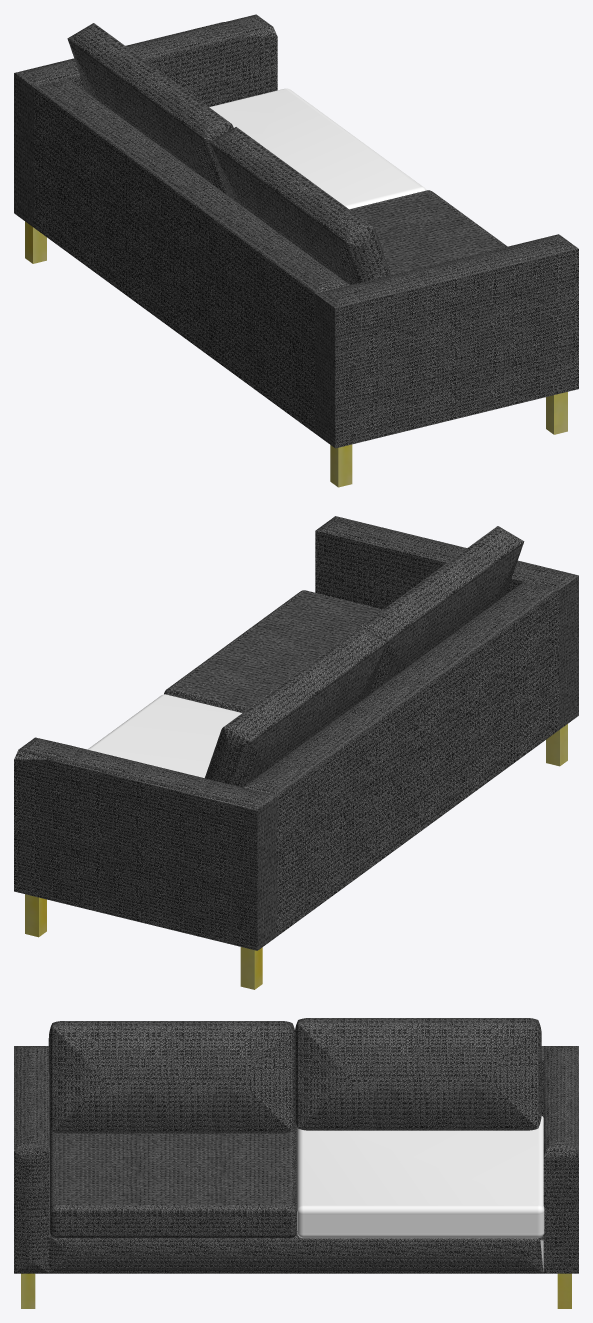
The model's file is karlstad_sofa_3_obj0_object.obj.
The picture shows the model from 3 angles, top to bottom: view 1: azimuth 30°, elevation 25°; view 2: azimuth 150°, elevation 25°; view 3: azimuth 270°, elevation 25°; orthographic projection. The views are drawn at different scales.
Parts seen in each view (by area): view 1: Mesh5 Model, Mesh3 back_cushion1 Model, Mesh2 seat_cushion2 Model, Mesh4 back_cushion2 Model, Mesh1 seat_cushion1 Model; view 2: Mesh5 Model, Mesh4 back_cushion2 Model, Mesh1 seat_cushion1 Model, Mesh3 back_cushion1 Model, Mesh2 seat_cushion2 Model; view 3: Mesh5 Model, Mesh3 back_cushion1 Model, Mesh4 back_cushion2 Model, Mesh2 seat_cushion2 Model, Mesh1 seat_cushion1 Model.
Boxes of the visible parts, <box> form: Mesh5 Model: <box>14,14,578,487</box>; Mesh3 back_cushion1 Model: <box>210,127,390,284</box>; Mesh2 seat_cushion2 Model: <box>209,88,426,209</box>; Mesh4 back_cushion2 Model: <box>67,23,233,195</box>; Mesh1 seat_cushion1 Model: <box>349,190,507,274</box>; Mesh5 Model: <box>14,516,578,989</box>; Mesh4 back_cushion2 Model: <box>205,626,386,787</box>; Mesh1 seat_cushion1 Model: <box>164,590,383,712</box>; Mesh3 back_cushion1 Model: <box>360,526,524,694</box>; Mesh2 seat_cushion2 Model: <box>87,694,241,777</box>; Mesh5 Model: <box>14,1046,578,1308</box>; Mesh3 back_cushion1 Model: <box>48,1021,295,1133</box>; Mesh4 back_cushion2 Model: <box>295,1018,541,1130</box>; Mesh2 seat_cushion2 Model: <box>297,1116,544,1238</box>; Mesh1 seat_cushion1 Model: <box>50,1122,297,1237</box>.
Size of the model in its own units: 0.9376 by 0.8289 by 2.03.
Materials: 4 (3 with a texture image).
